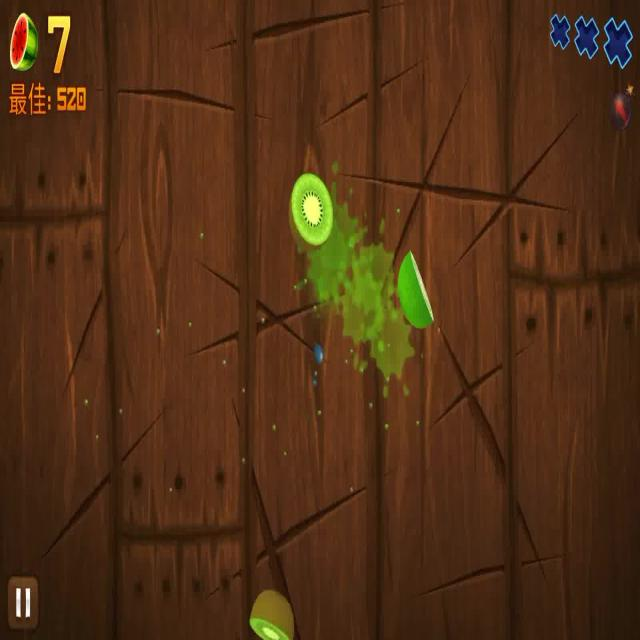fruit: (282, 160, 336, 255), (390, 241, 440, 332), (240, 582, 300, 640)
